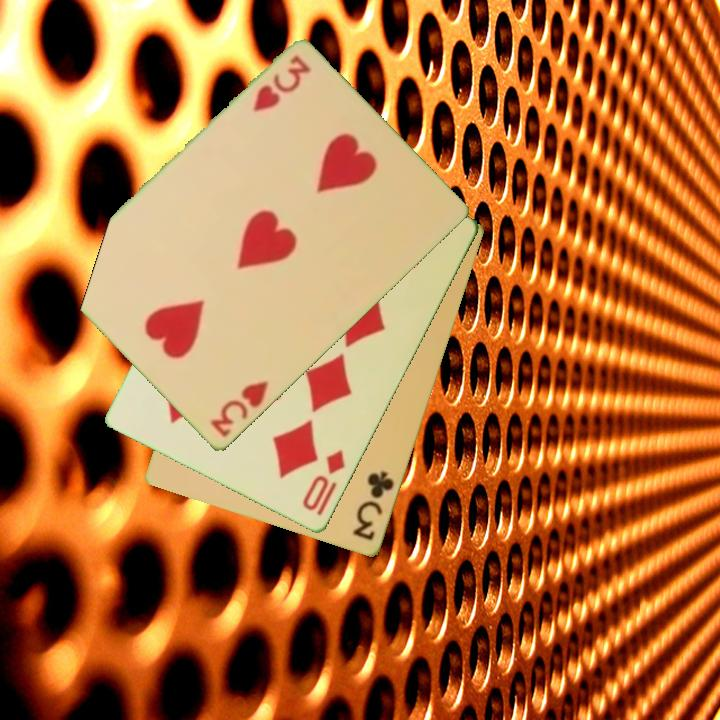10d: (299, 446, 349, 515)
3c: (349, 468, 398, 544)
3h: (249, 52, 314, 116), (207, 377, 271, 441)
